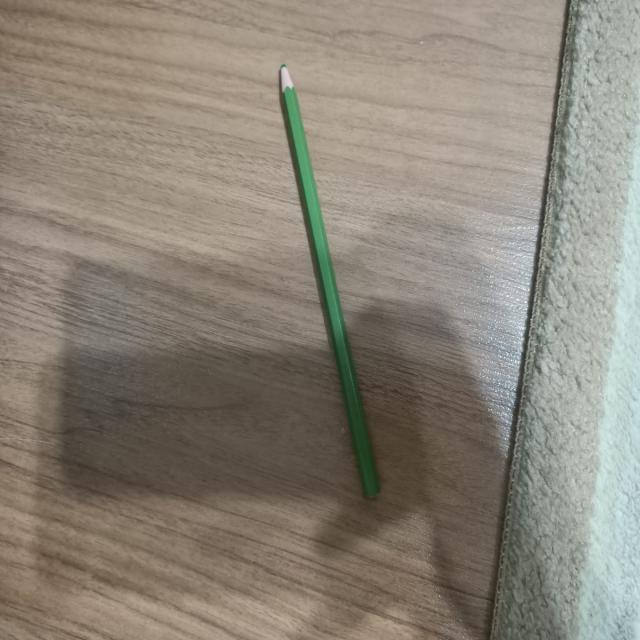pencil: (279, 65, 380, 498)
